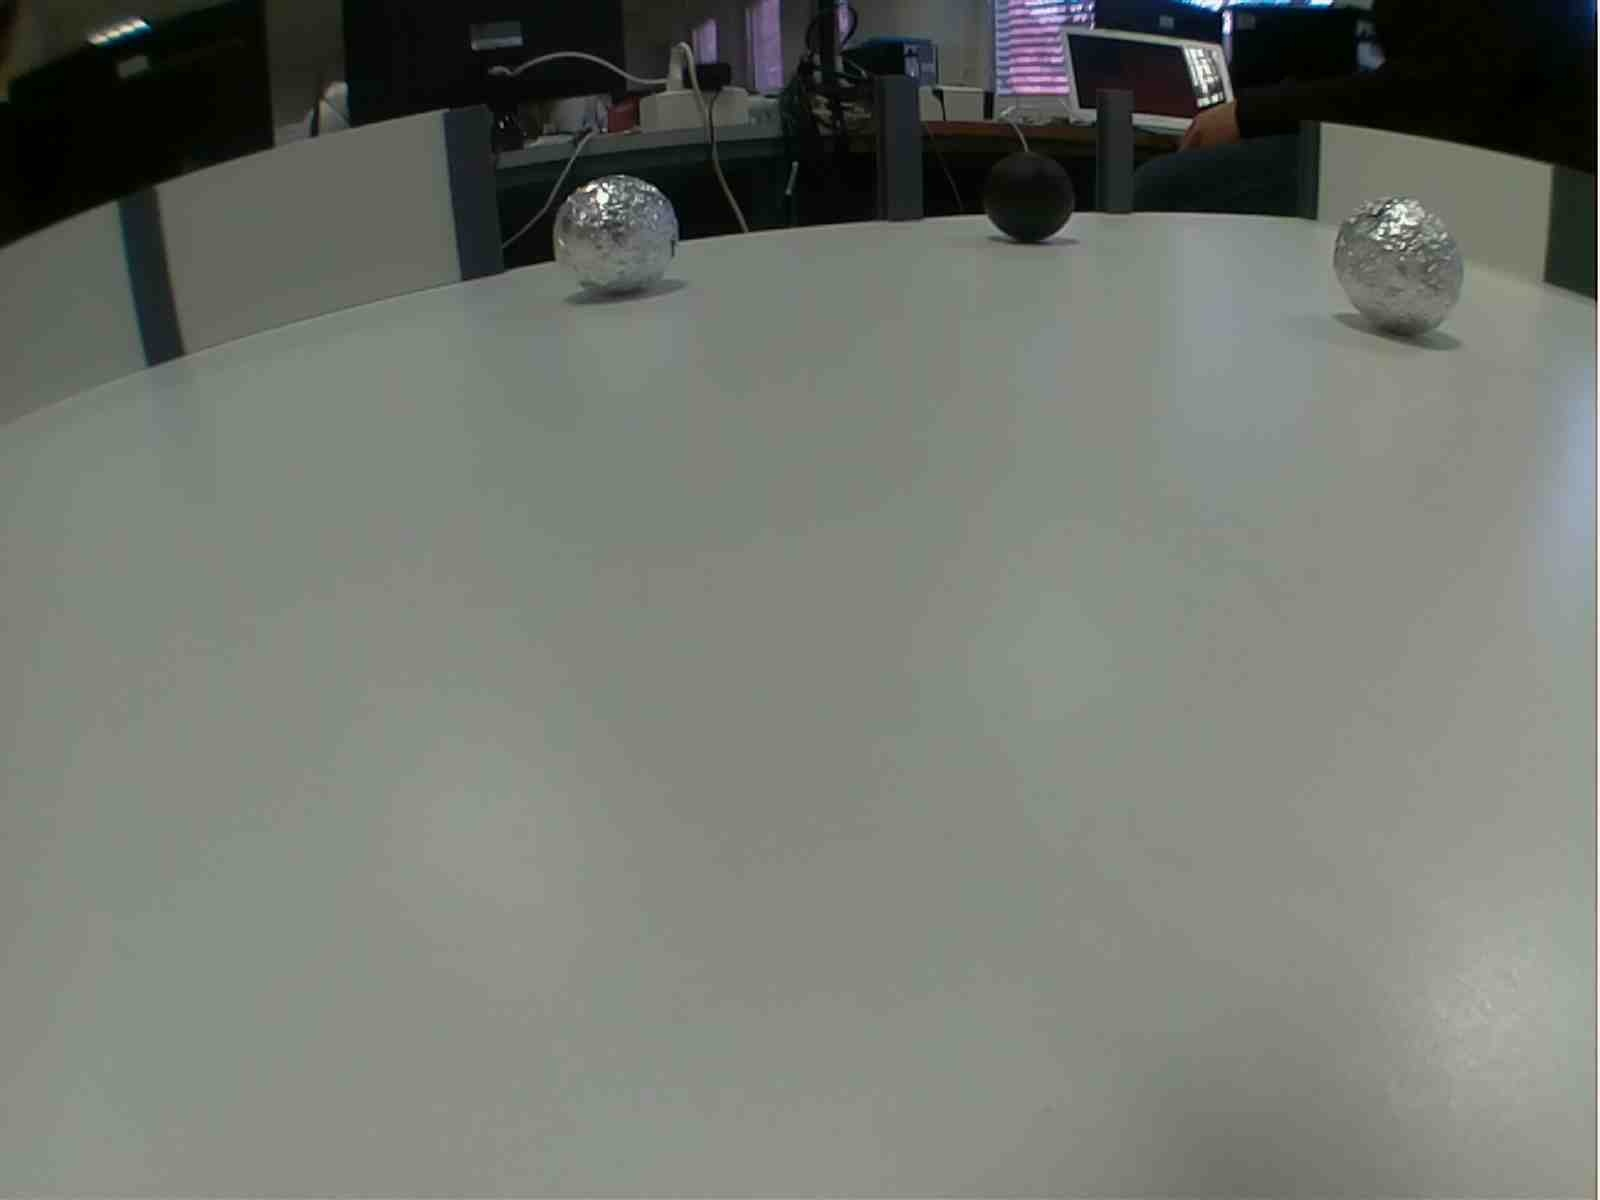bianca: (1335, 194, 1466, 340), (553, 171, 682, 301)
nera: (986, 149, 1073, 247)
